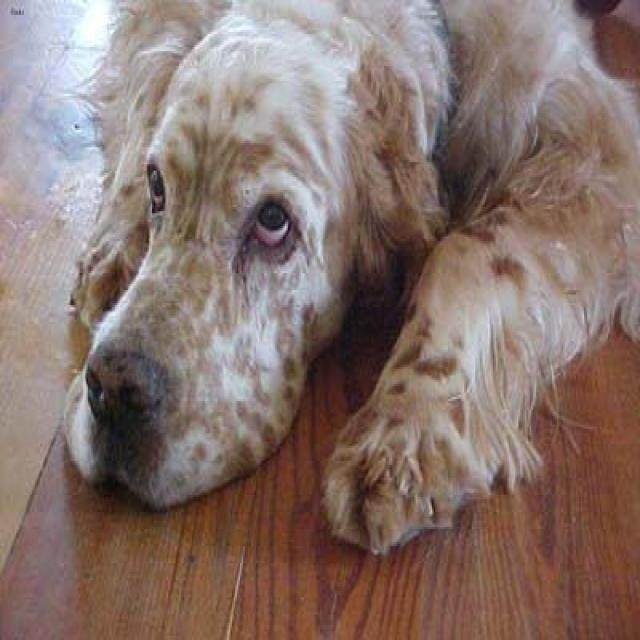dog-english_setter: (51, 2, 637, 561)
